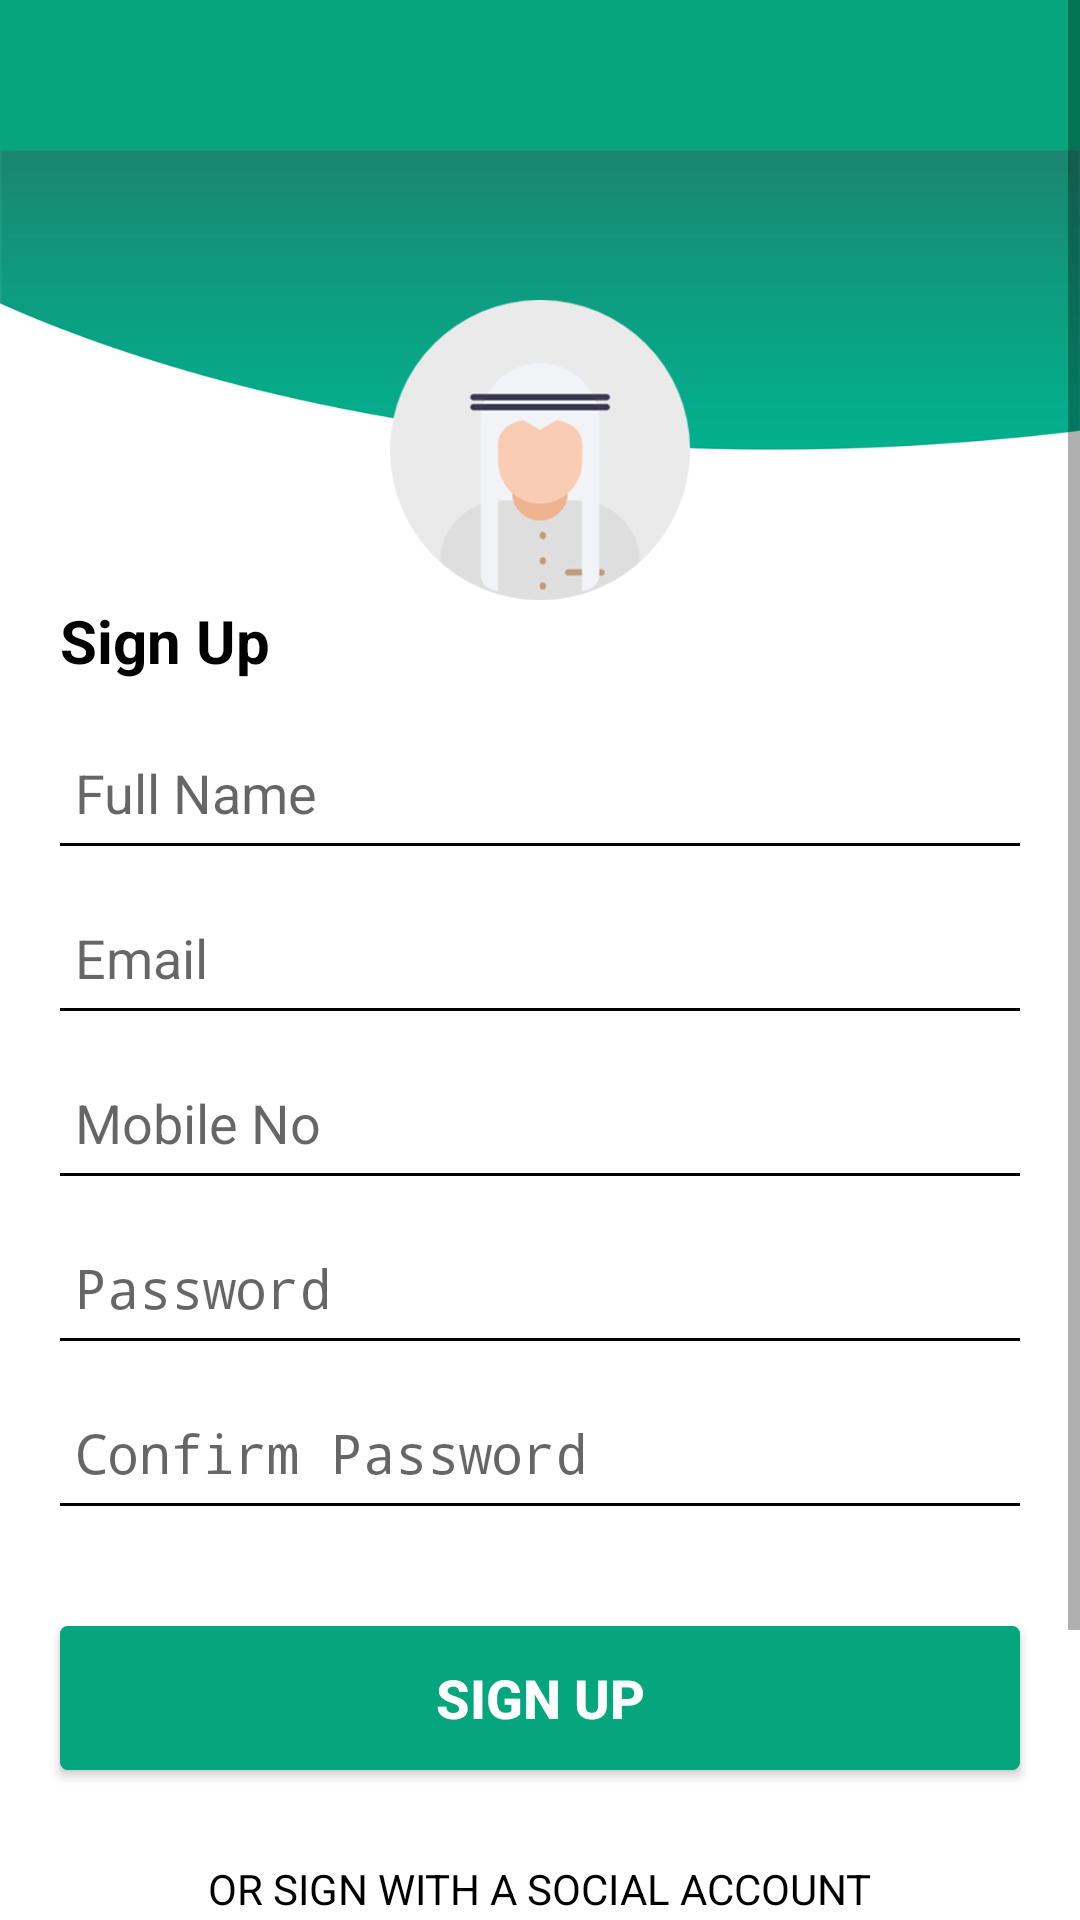

Named icons in this screenshot (1080*1920) and their centers, [x,y]:
profile photo: [540,450]
